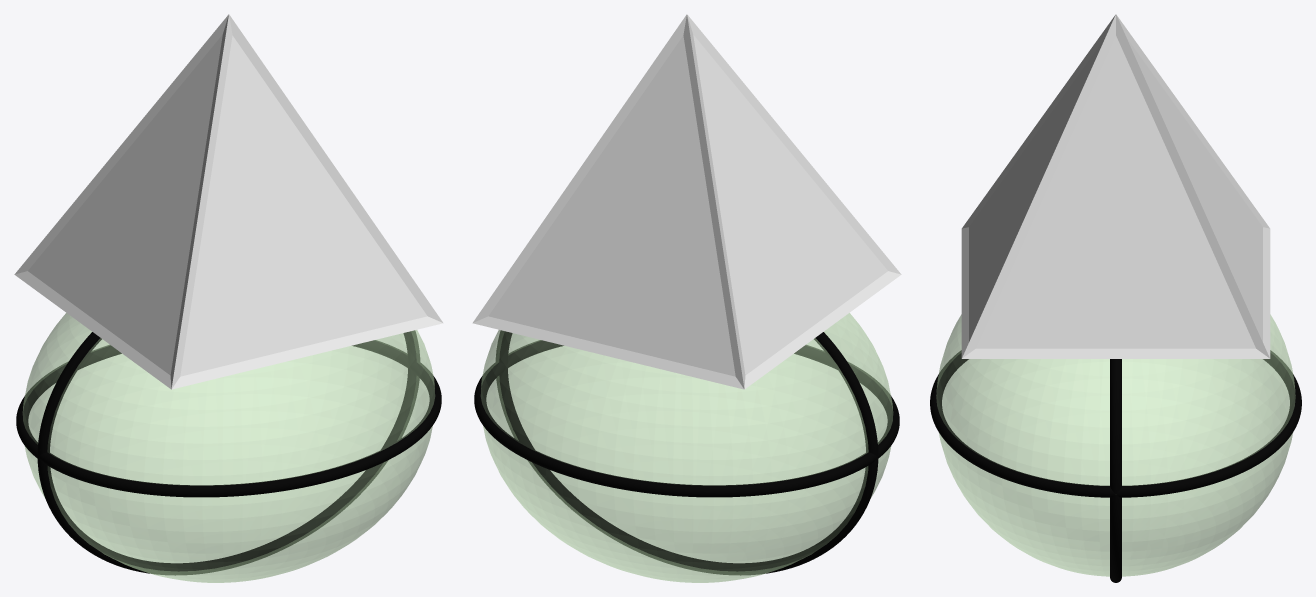
The picture shows the model from 3 angles, left to right: view 1: azimuth 30°, elevation 25°; view 2: azimuth 150°, elevation 25°; view 3: azimuth 270°, elevation 25°; orthographic projection.
Parts seen in each view (by area): view 1: ReferenceEllipsoid, Cube.001, Cube.002, equator_curve_obj, meridian_curve_obj; view 2: ReferenceEllipsoid, Cube.001, Cube.002, equator_curve_obj, meridian_curve_obj; view 3: Cube.001, ReferenceEllipsoid, Cube.002, equator_curve_obj, meridian_curve_obj.
Part boxes in pixels (x1=…): ReferenceEllipsoid: x1=22, y1=313, x2=434, y2=582; Cube.001: x1=28, y1=35, x2=427, y2=376; Cube.002: x1=14, y1=14, x2=443, y2=389; equator_curve_obj: x1=16, y1=340, x2=441, y2=497; meridian_curve_obj: x1=37, y1=330, x2=419, y2=575; ReferenceEllipsoid: x1=481, y1=313, x2=893, y2=582; Cube.001: x1=488, y1=35, x2=887, y2=376; Cube.002: x1=472, y1=14, x2=901, y2=389; equator_curve_obj: x1=474, y1=340, x2=899, y2=497; meridian_curve_obj: x1=496, y1=330, x2=878, y2=575; Cube.001: x1=969, y1=36, x2=1262, y2=348; ReferenceEllipsoid: x1=936, y1=314, x2=1295, y2=576; Cube.002: x1=961, y1=14, x2=1270, y2=358; equator_curve_obj: x1=930, y1=350, x2=1301, y2=497; meridian_curve_obj: x1=1110, y1=359, x2=1121, y2=582.
Bounding box in the file's own units: 288 × 400 × 248.
